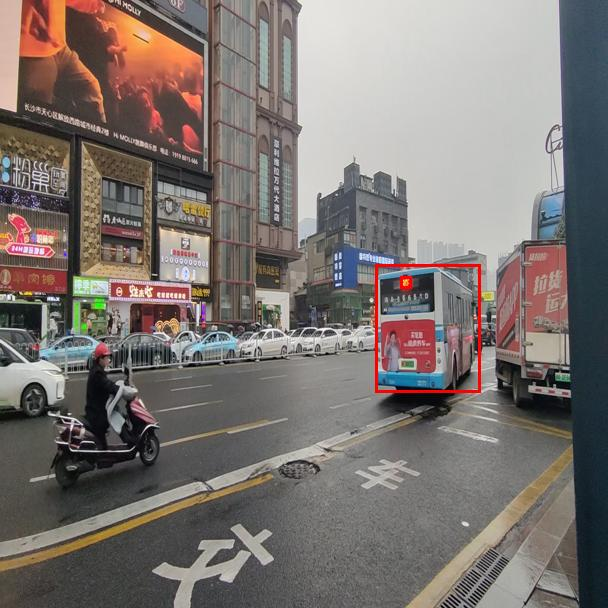bus: (375, 264, 480, 392)
screen: (400, 276, 411, 288)
